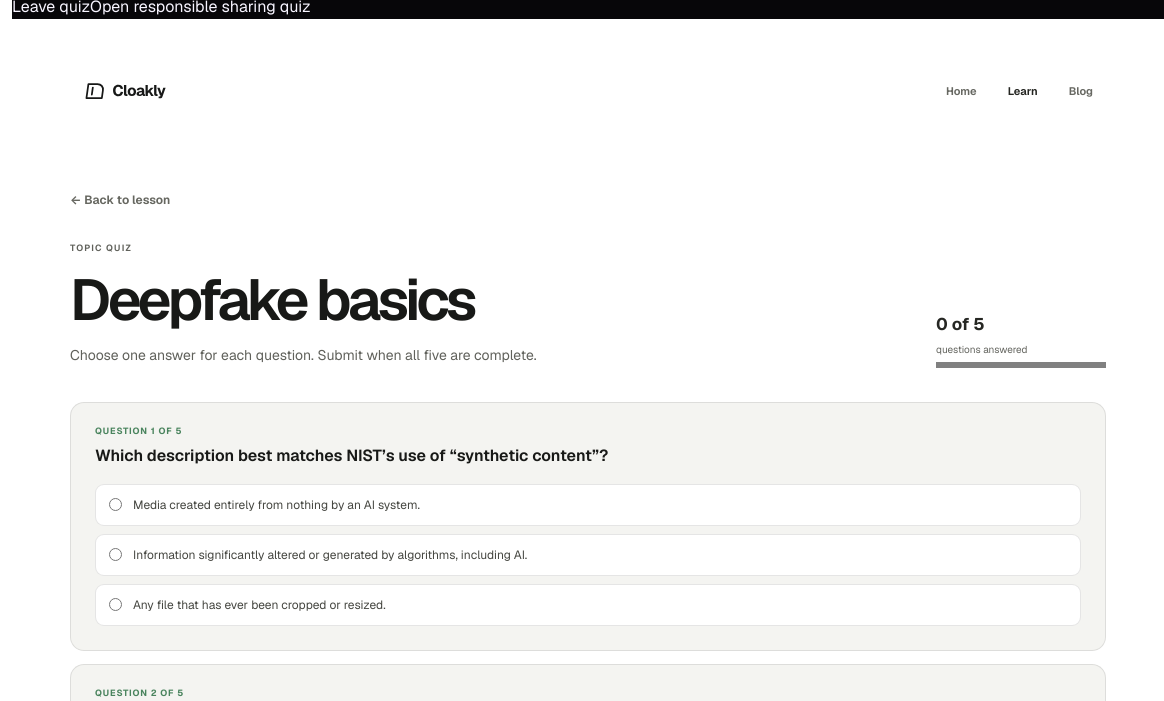
Scenario: quiz attempt flow › shows a full score, explanations, and the participation acknowledgement after five correct answers
Step 1. Click the radio button labelled "Information significantly altered or generated by algorithms, including AI." → click(116, 555), box [109, 548, 122, 561]
(page scrolled)
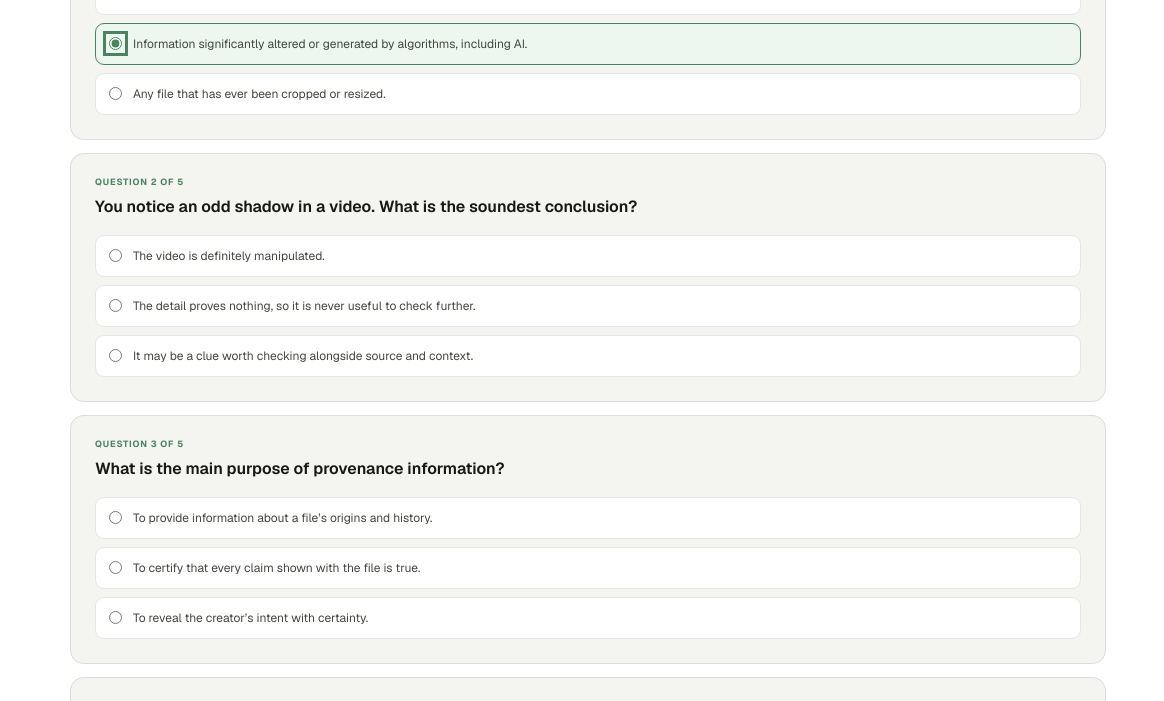
Step 2. Click the radio button labelled "It may be a clue worth checking alongside source and context." → click(116, 356), box [109, 349, 122, 362]
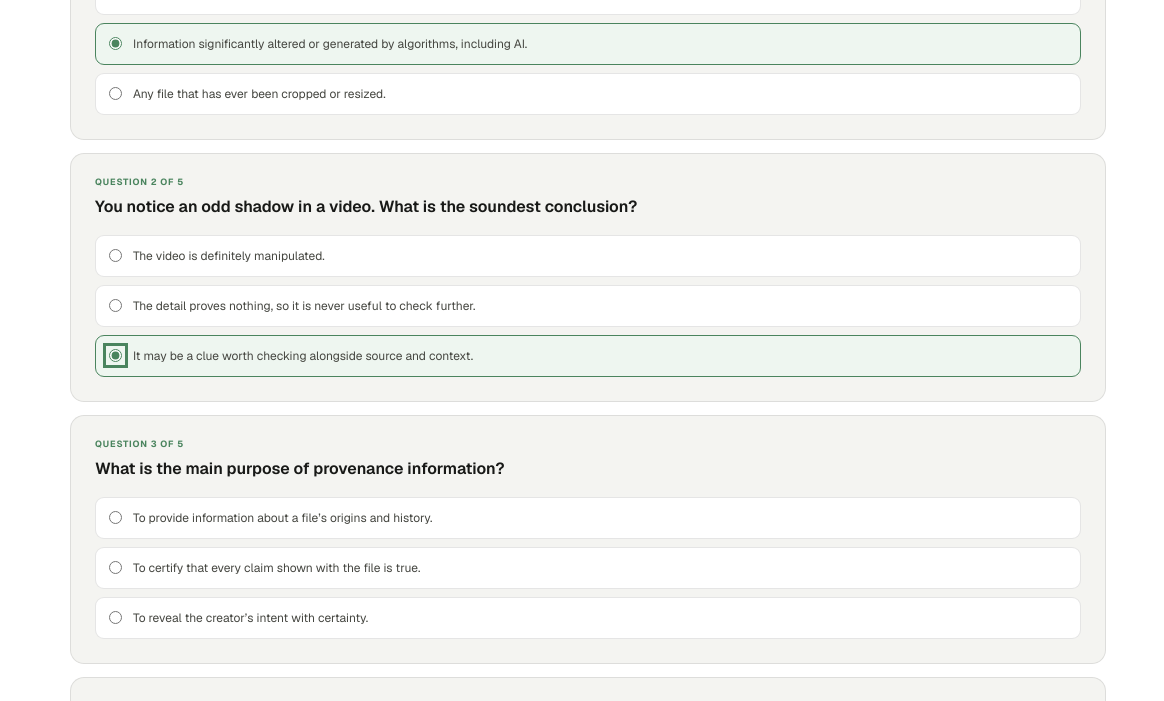
Step 3. Click the radio button labelled "To provide information about a file’s origins and history." → click(116, 518), box [109, 511, 122, 524]
(page scrolled)
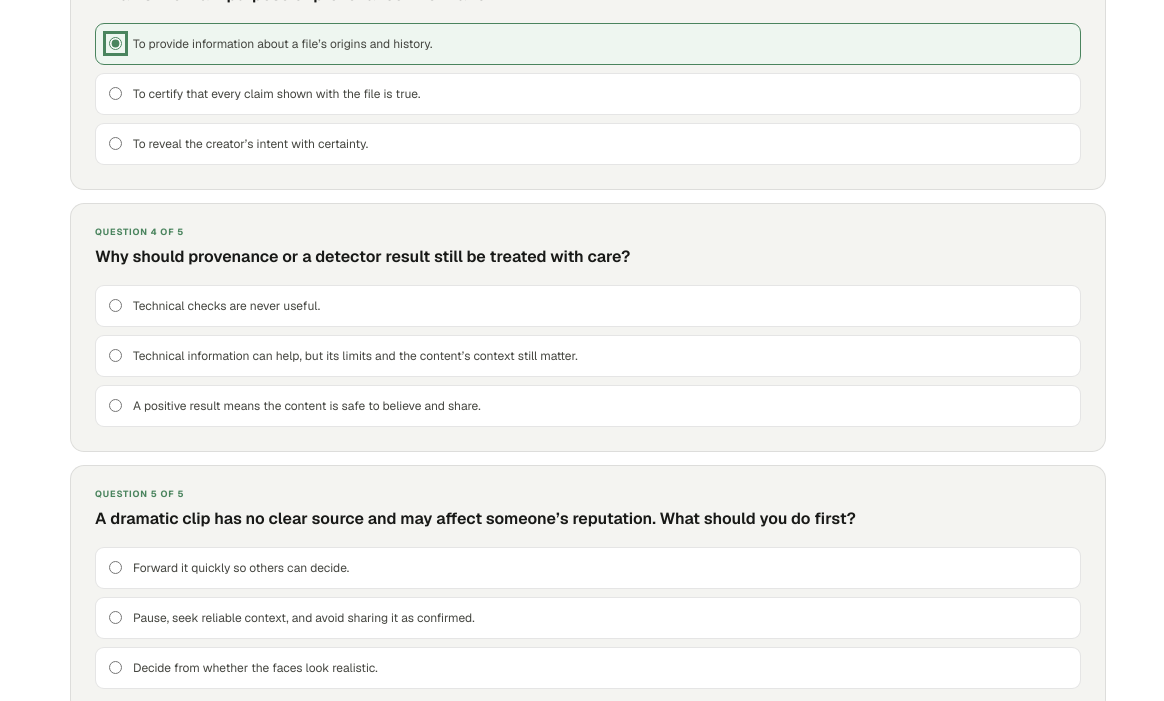
Step 4. Click the radio button named "Technical information can help, but its limits and the content’s context still matter." → click(116, 356), box [109, 349, 122, 362]
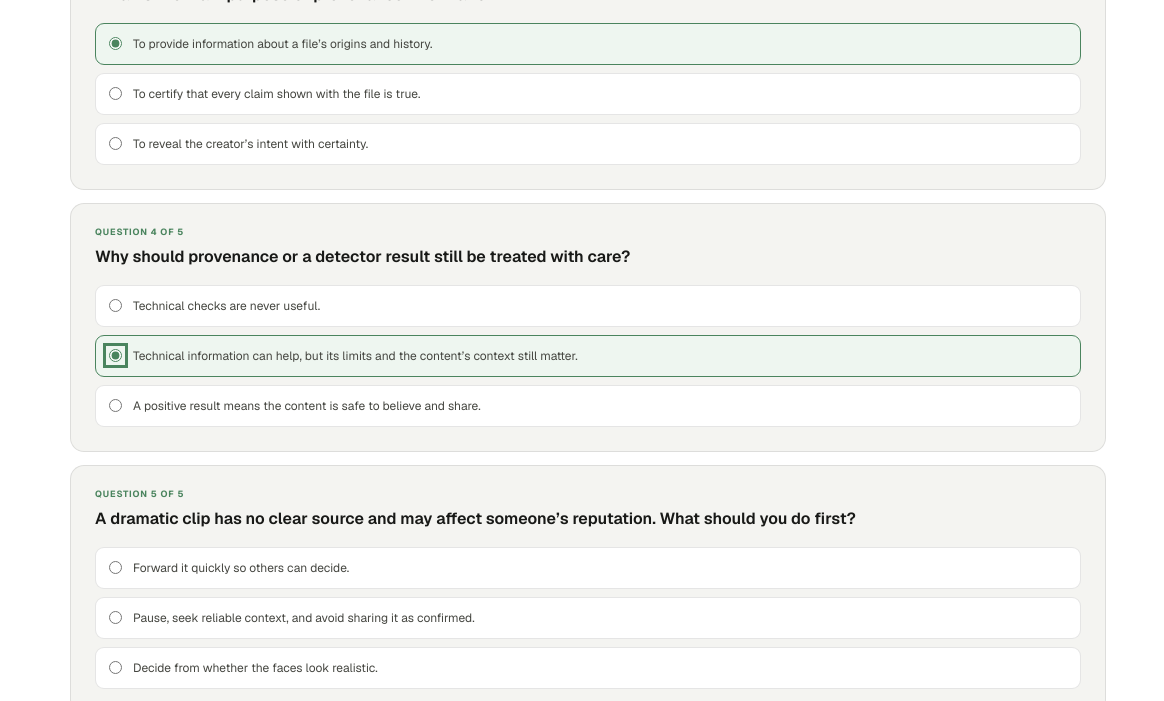
Step 5. Click the radio button labelled "Pause, seek reliable context, and avoid sharing it as confirmed." → click(116, 618), box [109, 611, 122, 624]
(page scrolled)
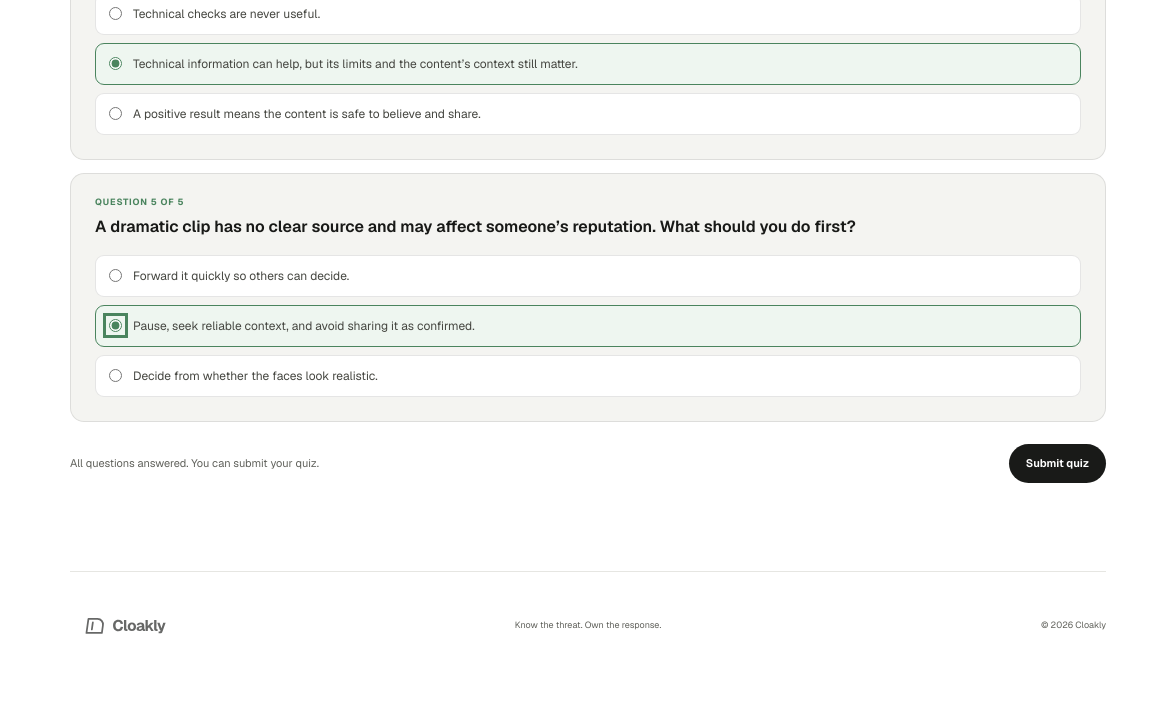
Expected: the button "Submit quiz" is enabled
Step 6. Click the button "Submit quiz" → click(1057, 463), box [1009, 444, 1106, 483]
(page scrolled)
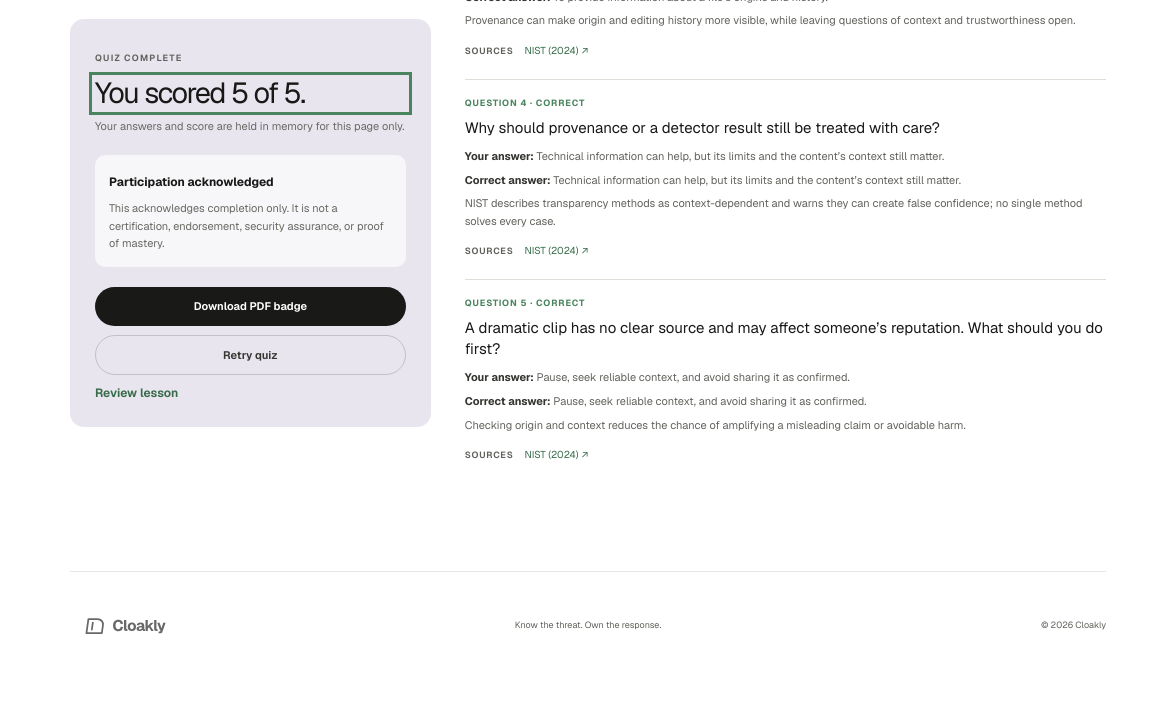
Expected: the heading "You scored 5 of 5." is shown, [95, 74, 305, 112]
Expected: the text "This acknowledges completion only" is shown, [109, 201, 384, 250]
Expected: the button "Download PDF badge" is shown, [95, 287, 406, 325]
